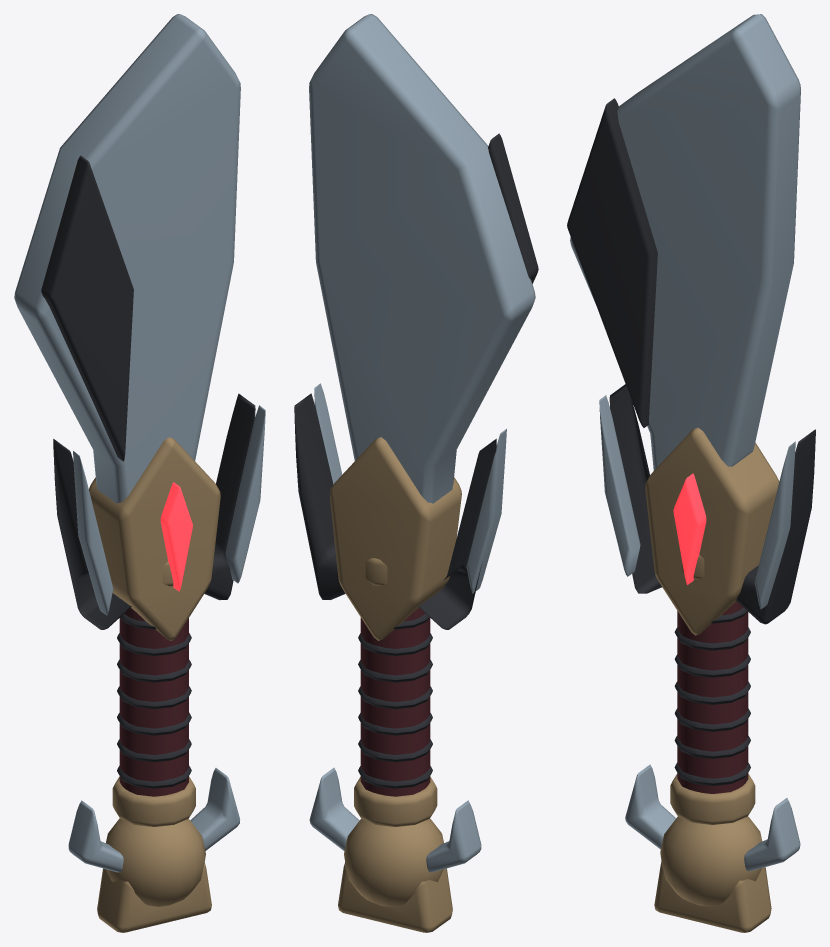
The model's file is serpent-tooth.glb.
The picture shows the model from 3 angles, left to right: view 1: azimuth 30°, elevation 25°; view 2: azimuth 150°, elevation 25°; view 3: azimuth 330°, elevation 25°; orthographic projection.
Visible parts, largest first — view 1: Spire forged blade.003, Kukri dark spine, Gothic guard shield.003, Leather grip.003, Pommel.003, Cathedral swept quillon.006, Cathedral swept quillon.007, Pointed reliquary crest.005, Silver quillon edge.007, Silver quillon edge.006, Grip collar.006, Rift inset.003 (+8 smaller); view 2: Spire forged blade.003, Gothic guard shield.003, Leather grip.003, Pommel.003, Cathedral swept quillon.007, Cathedral swept quillon.006, Pointed reliquary crest.005, Silver quillon edge.006, Grip collar.006, Kukri dark spine, Forged hooked thorn.009, Forged hooked thorn.008 (+8 smaller); view 3: Spire forged blade.003, Gothic guard shield.003, Kukri dark spine, Leather grip.003, Pommel.003, Cathedral swept quillon.007, Cathedral swept quillon.006, Pointed reliquary crest.005, Silver quillon edge.006, Silver quillon edge.007, Grip collar.006, Rift inset.003 (+8 smaller).
Part boxes in pixels (left/top/right/bottom): Spire forged blade.003: left=14, top=14, right=240, bottom=503; Kukri dark spine: left=41, top=155, right=133, bottom=461; Gothic guard shield.003: left=89, top=437, right=220, bottom=640; Leather grip.003: left=119, top=608, right=188, bottom=796; Pommel.003: left=106, top=818, right=205, bottom=906; Cathedral swept quillon.006: left=53, top=439, right=131, bottom=629; Cathedral swept quillon.007: left=204, top=393, right=255, bottom=600; Pointed reliquary crest.005: left=97, top=862, right=211, bottom=932; Silver quillon edge.007: left=225, top=405, right=265, bottom=583; Silver quillon edge.006: left=73, top=451, right=113, bottom=615; Grip collar.006: left=112, top=776, right=195, bottom=826; Rift inset.003: left=160, top=482, right=192, bottom=591; Spire forged blade.003: left=309, top=14, right=535, bottom=503; Gothic guard shield.003: left=330, top=437, right=461, bottom=640; Leather grip.003: left=360, top=608, right=430, bottom=796; Pommel.003: left=344, top=818, right=443, bottom=906; Cathedral swept quillon.007: left=294, top=393, right=345, bottom=599; Cathedral swept quillon.006: left=418, top=438, right=496, bottom=629; Pointed reliquary crest.005: left=338, top=862, right=452, bottom=932; Silver quillon edge.006: left=466, top=429, right=506, bottom=593; Grip collar.006: left=354, top=777, right=437, bottom=826; Kukri dark spine: left=488, top=133, right=538, bottom=283; Forged hooked thorn.009: left=309, top=767, right=359, bottom=850; Forged hooked thorn.008: left=426, top=800, right=481, bottom=872; Spire forged blade.003: left=570, top=14, right=800, bottom=470; Gothic guard shield.003: left=645, top=427, right=779, bottom=635; Kukri dark spine: left=567, top=98, right=657, bottom=427; Leather grip.003: left=677, top=601, right=748, bottom=793; Pommel.003: left=660, top=816, right=762, bottom=906; Cathedral swept quillon.007: left=736, top=429, right=815, bottom=624; Cathedral swept quillon.006: left=609, top=384, right=661, bottom=593; Pointed reliquary crest.005: left=654, top=861, right=771, bottom=932; Silver quillon edge.006: left=599, top=395, right=640, bottom=576; Silver quillon edge.007: left=754, top=441, right=795, bottom=609; Grip collar.006: left=670, top=774, right=755, bottom=824; Rift inset.003: left=673, top=473, right=706, bottom=584.
Size of the model in its own units: 0.2139 by 0.8165 by 0.0885.
